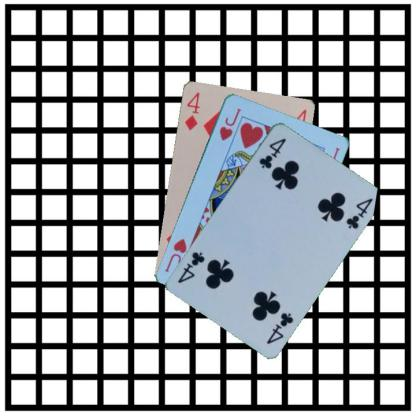4c: (256, 134, 288, 170), (263, 309, 294, 346)
4d: (181, 89, 201, 131)
Jh: (216, 105, 242, 142)
